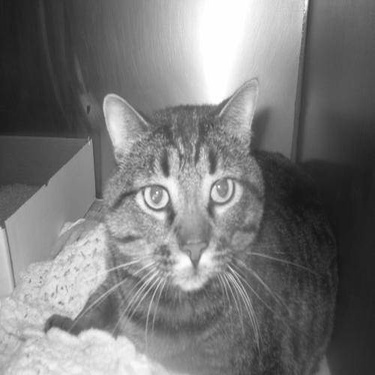cat: (71, 69, 337, 356)
